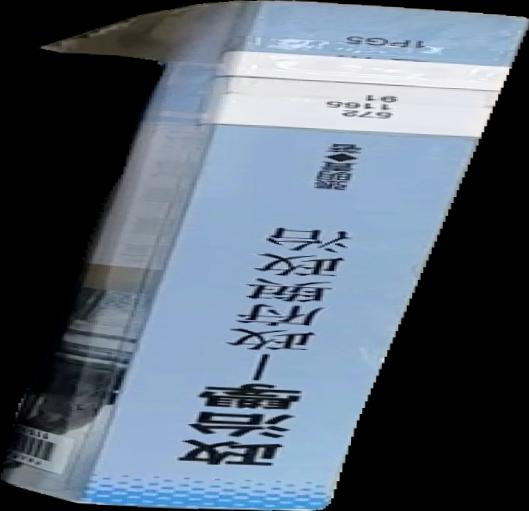reverse: (1, 1, 529, 511)
